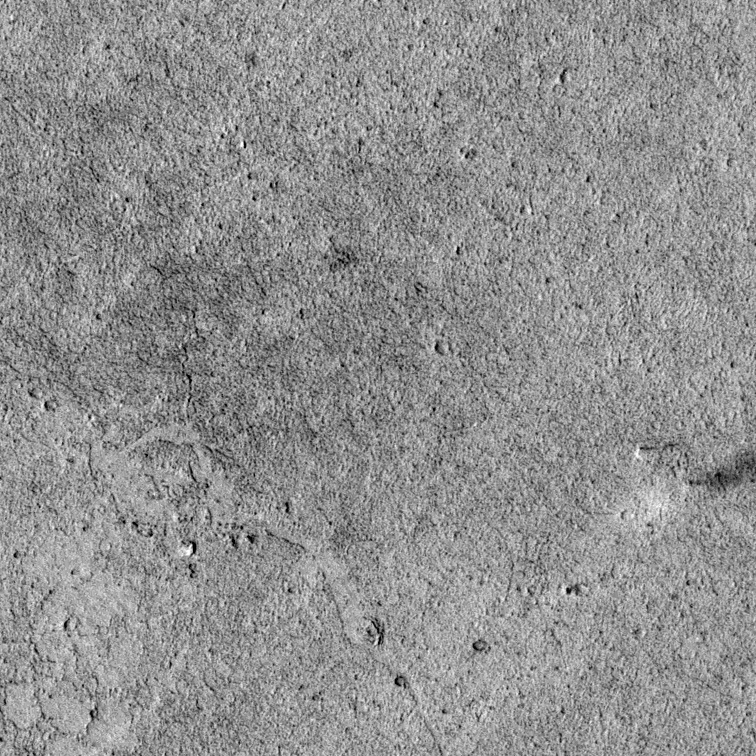dust_devil: (631, 446, 756, 533), (634, 440, 680, 461)
